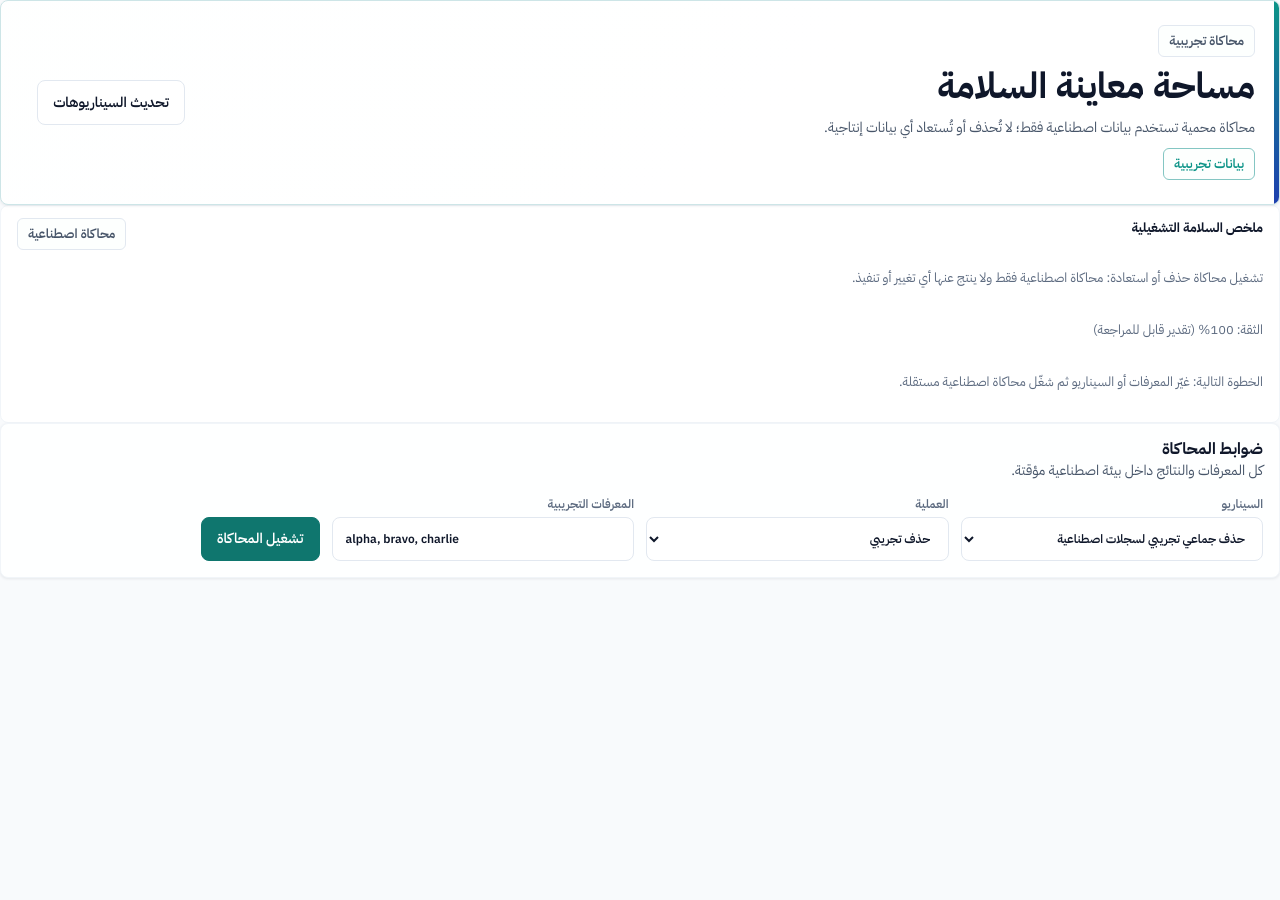
safety preview workspace › runs only the synthetic preview and renders counts, expiry, and item outcomes
Select "استعادة تجريبية تعرض تعارضاً وعنصراً قابلاً للاستعادة" in the dropdown labelled "السيناريو" at (1112, 539), box [960,517,1263,561]
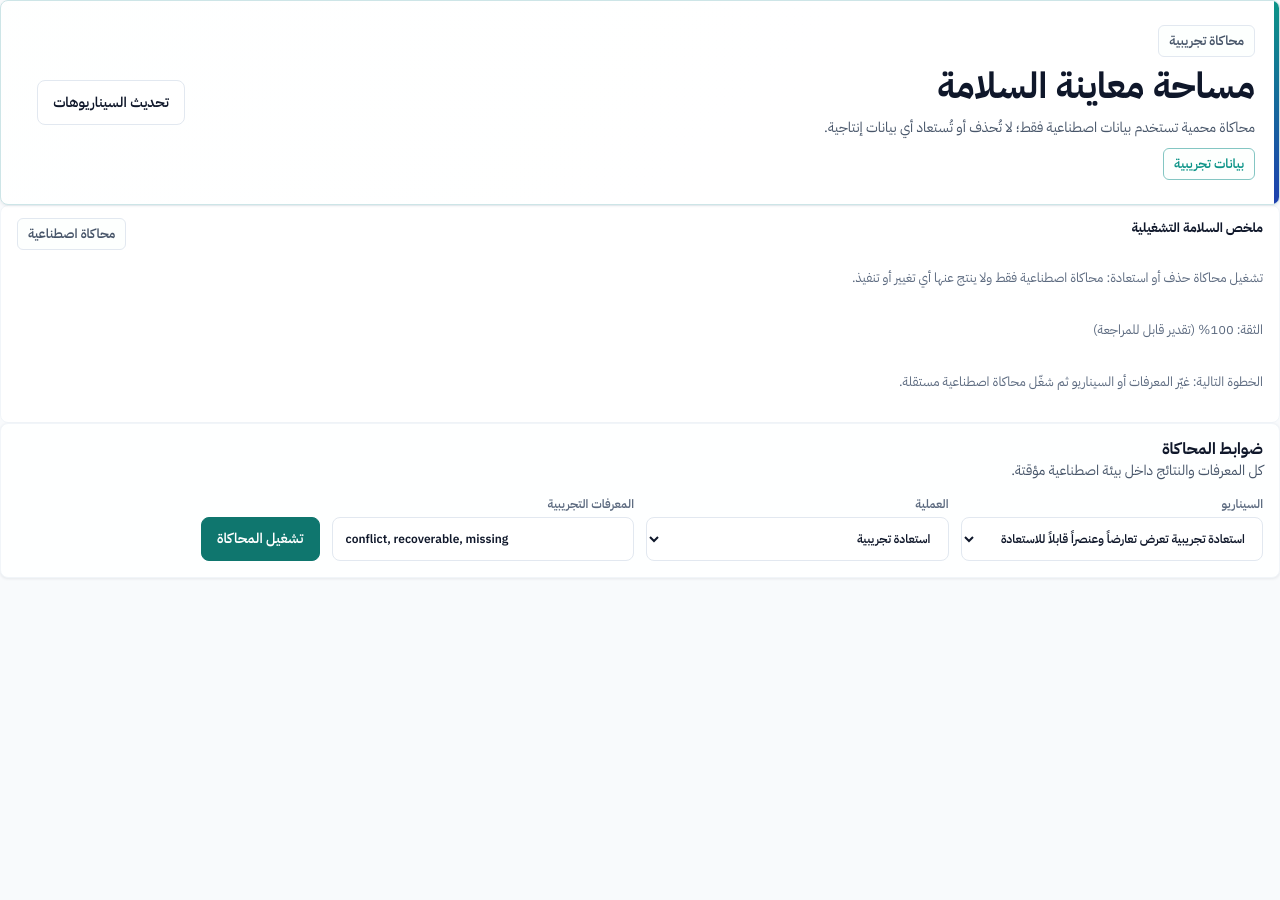
Click the button "تشغيل المحاكاة".
click(260, 539)  # box [201,516,320,561]
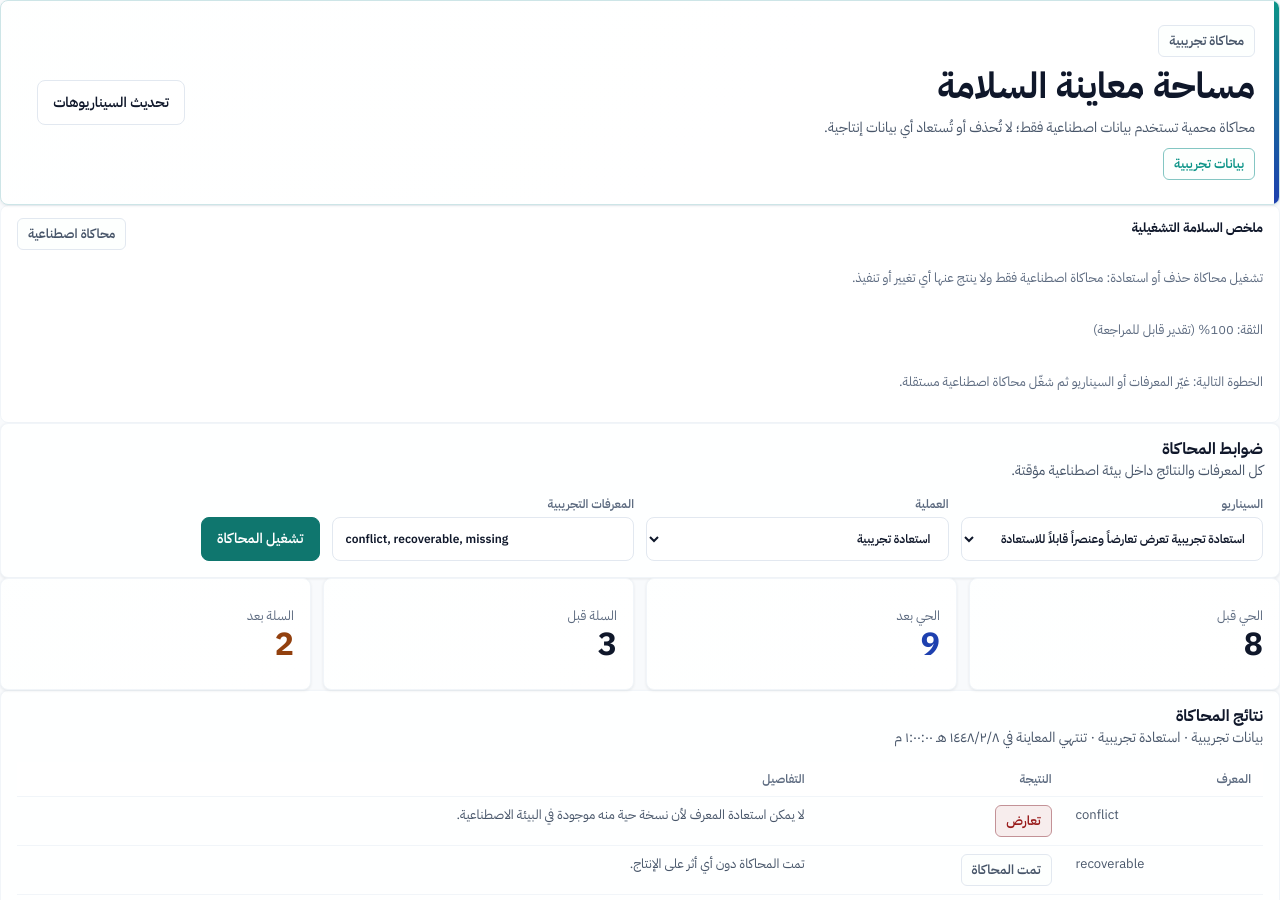
Now the text "recoverable" is shown, box [1064,846,1263,895]
Now the text "8" is shown, box [1244,620,1263,668]
Now the text "9" is shown, box [921,620,940,668]
